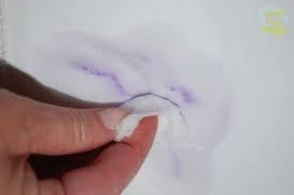ink: (80, 63, 119, 86), (174, 84, 200, 104)
